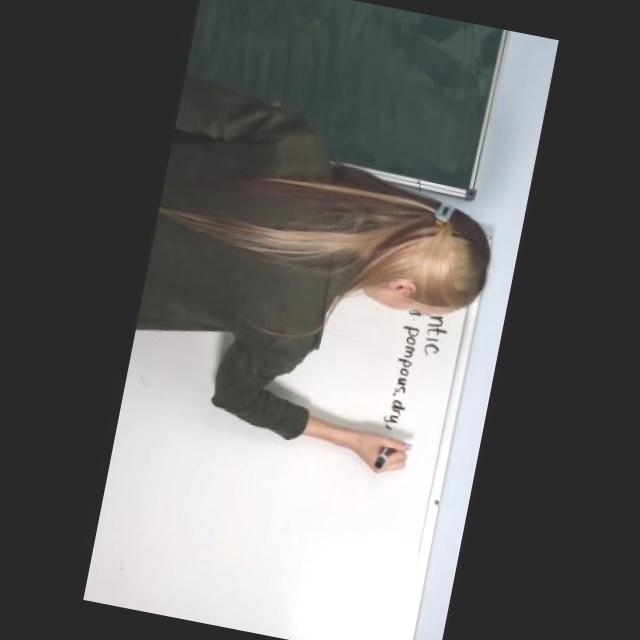Instructor: (134, 108, 516, 346)
White-board: (78, 166, 489, 640)
